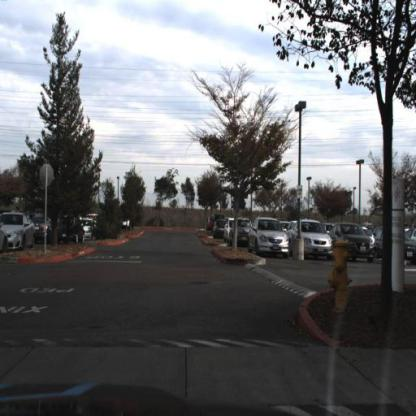car: (331, 222, 375, 262), (293, 220, 333, 259), (376, 227, 415, 266), (249, 220, 289, 256), (1, 209, 36, 249), (5, 211, 35, 254), (58, 216, 86, 246), (32, 212, 53, 247), (228, 218, 250, 249), (231, 220, 256, 246), (35, 217, 51, 248), (81, 217, 98, 242), (214, 220, 228, 243), (223, 216, 233, 244), (1, 229, 9, 258), (214, 222, 226, 240), (83, 223, 93, 243)
